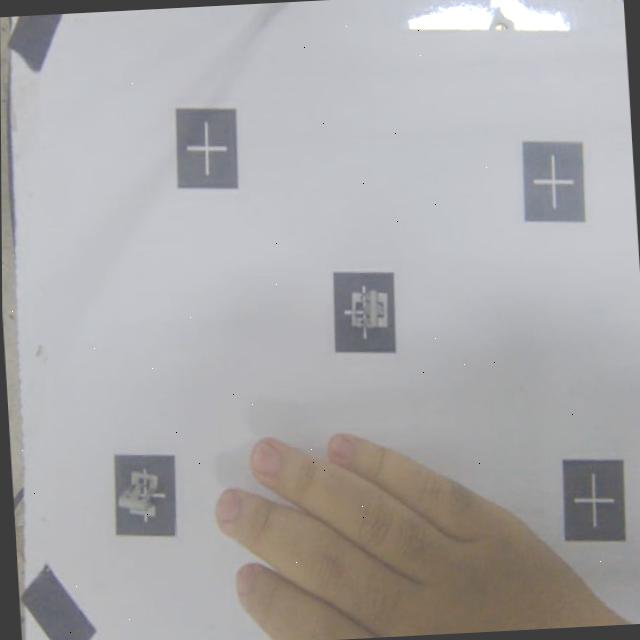pick5: (110, 452, 177, 542)
